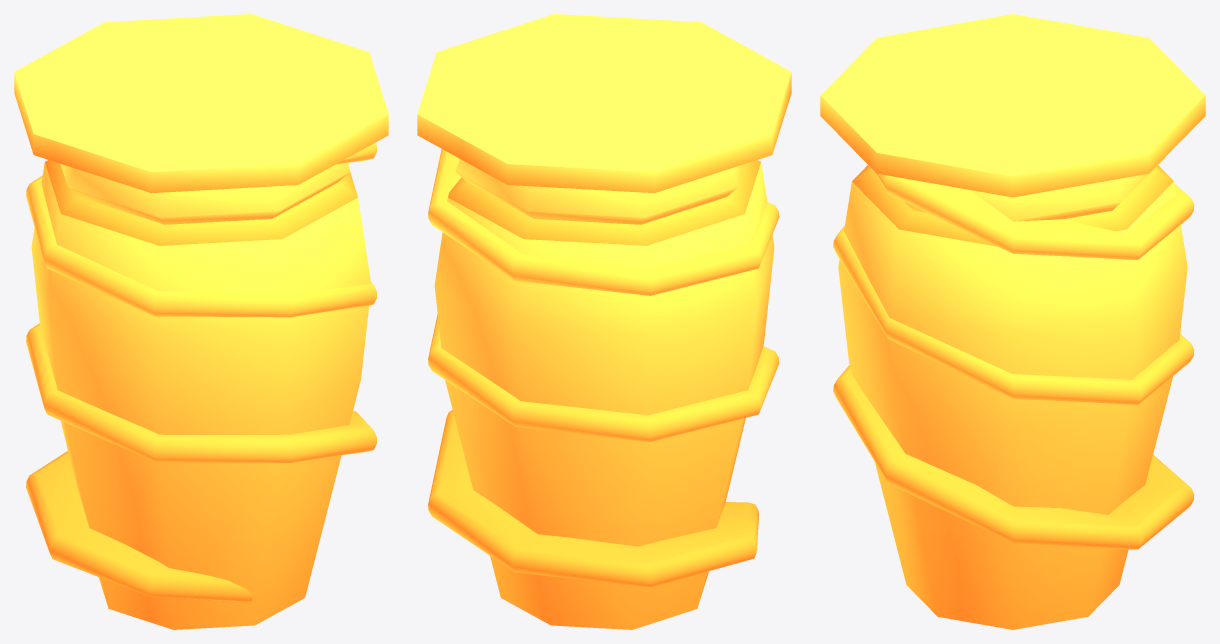
Rendered from gold_grip_016.glb.
3 views of the same model, side by side, from view 1: azimuth 30°, elevation 25°; view 2: azimuth 150°, elevation 25°; view 3: azimuth 270°, elevation 25° (orthographic).
Visible parts, largest first — view 1: gold_grip_016; view 2: gold_grip_016; view 3: gold_grip_016.
Part boxes in pixels (bbox=[...]): gold_grip_016: bbox=[14, 14, 388, 629]; gold_grip_016: bbox=[417, 14, 791, 629]; gold_grip_016: bbox=[820, 14, 1205, 629].
Size of the model in its own units: 2.25 by 3.15 by 2.25.
Materials: 1 (1 with a texture image).
